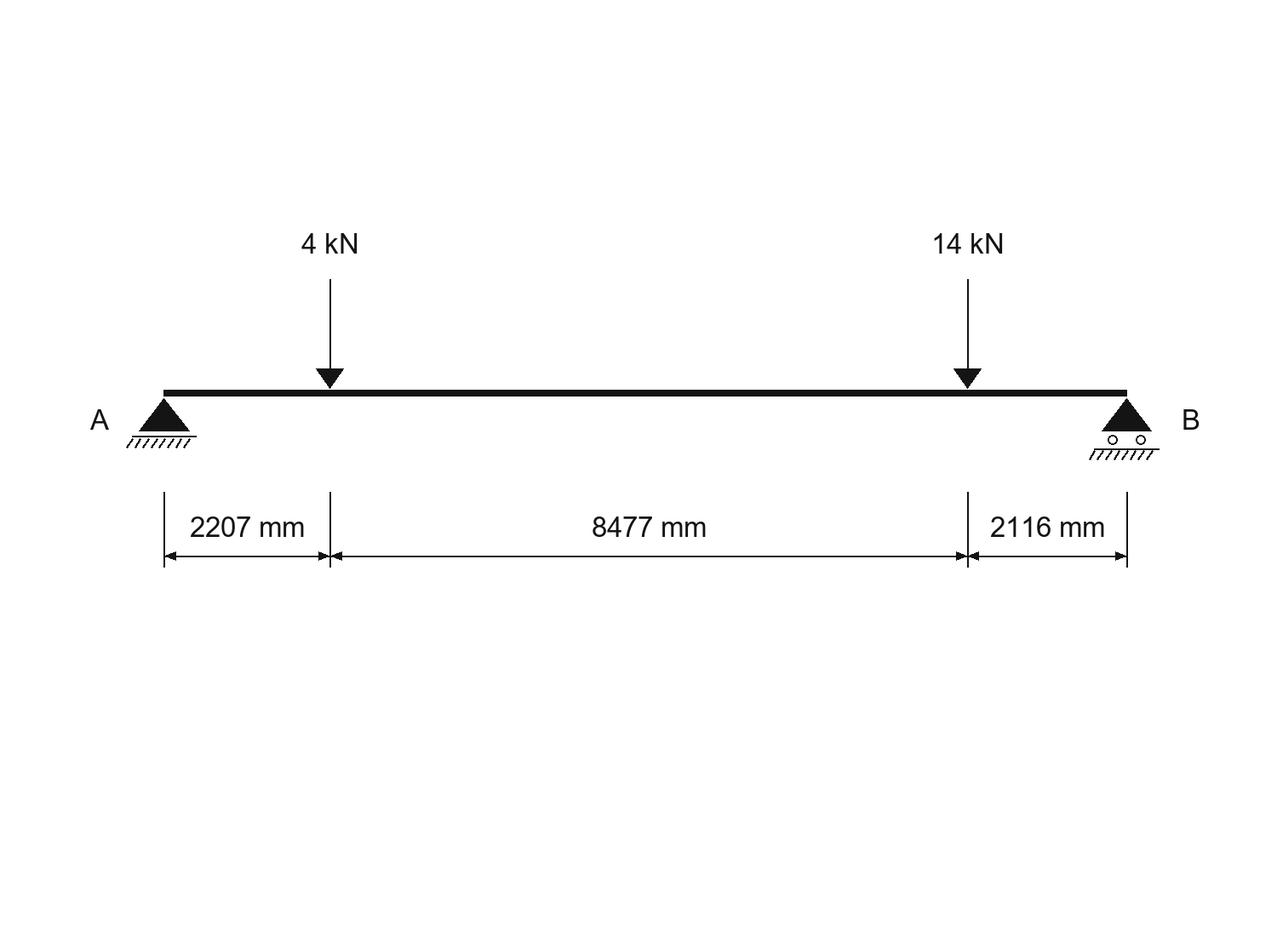pin_support: (126, 398, 197, 448)
point_load: (953, 279, 982, 389), (316, 279, 344, 389)
roller_support: (1089, 398, 1160, 460)
